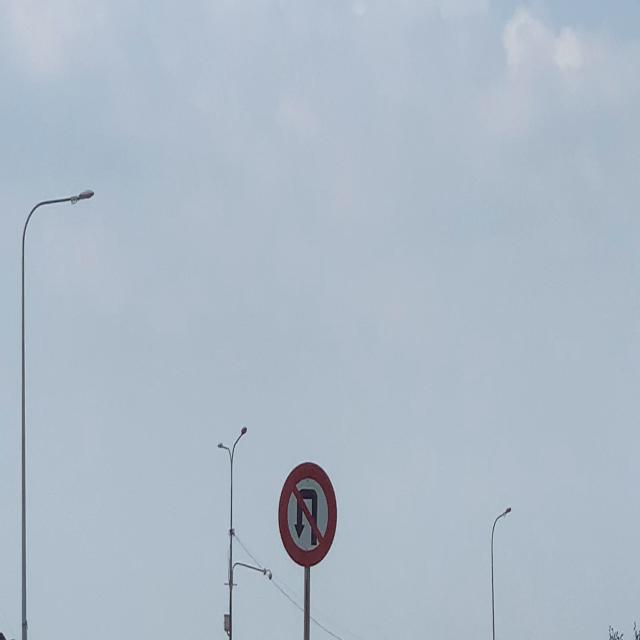Cam quay dau xe: (278, 461, 338, 568)
